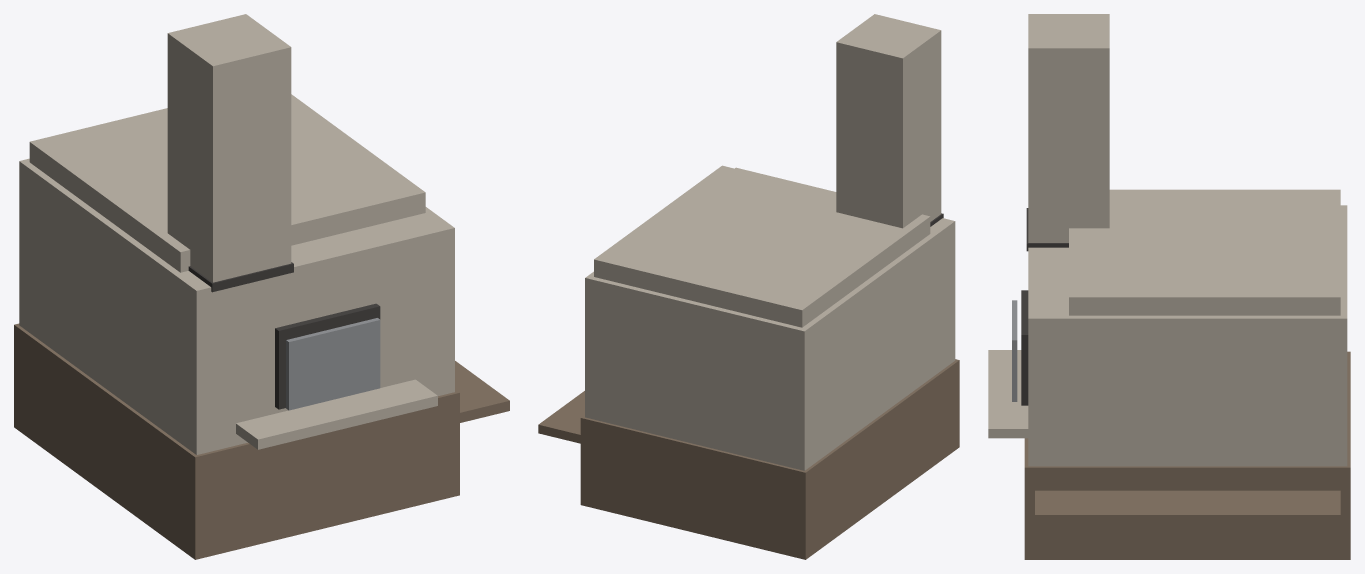
The model's file is Pechka.fbx.
3 views of the same model, side by side, from view 1: azimuth 30°, elevation 25°; view 2: azimuth 150°, elevation 25°; view 3: azimuth 270°, elevation 25° (orthographic). The views are drawn at different scales.
Visible parts, largest first — view 1: Pechka; view 2: Pechka; view 3: Pechka.
Boxes of the visible parts, bbox=[...] form: Pechka: bbox=[14, 14, 509, 559]; Pechka: bbox=[538, 14, 959, 559]; Pechka: bbox=[988, 14, 1350, 559].
Bounding box in the file's own units: 196 × 285 × 213.
